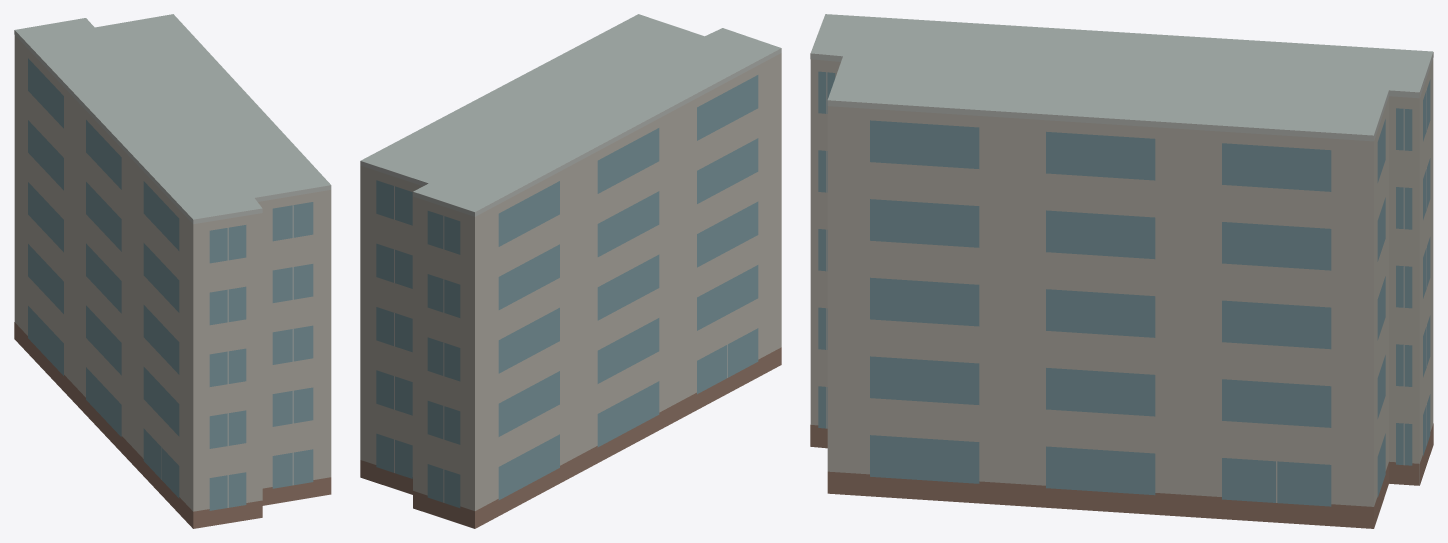
File: survey-upis-32493204.glb
3 views of the same model, side by side, from view 1: azimuth 30°, elevation 25°; view 2: azimuth 150°, elevation 25°; view 3: azimuth 270°, elevation 25° (orthographic). The views are drawn at different scales.
Parts seen in each view (by area): view 1: survey-upis-32493204.tmp; view 2: survey-upis-32493204.tmp; view 3: survey-upis-32493204.tmp.
Boxes of the visible parts, bbox=[...] form: survey-upis-32493204.tmp: bbox=[14, 14, 331, 528]; survey-upis-32493204.tmp: bbox=[360, 14, 781, 528]; survey-upis-32493204.tmp: bbox=[810, 14, 1433, 528].
Size of the model in its own units: 10.84 by 16.35 by 23.48.
